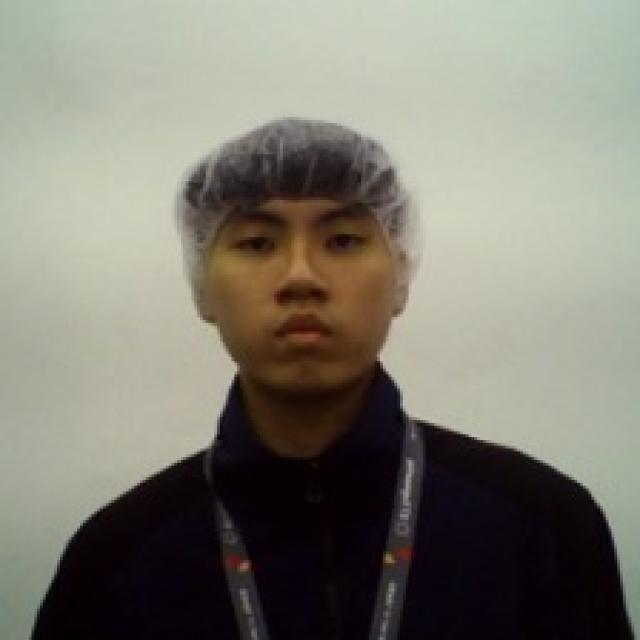gloves: (168, 112, 422, 318)
no_hairnet: (186, 246, 424, 397)
